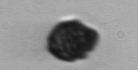plankton: (42, 14, 104, 64)
